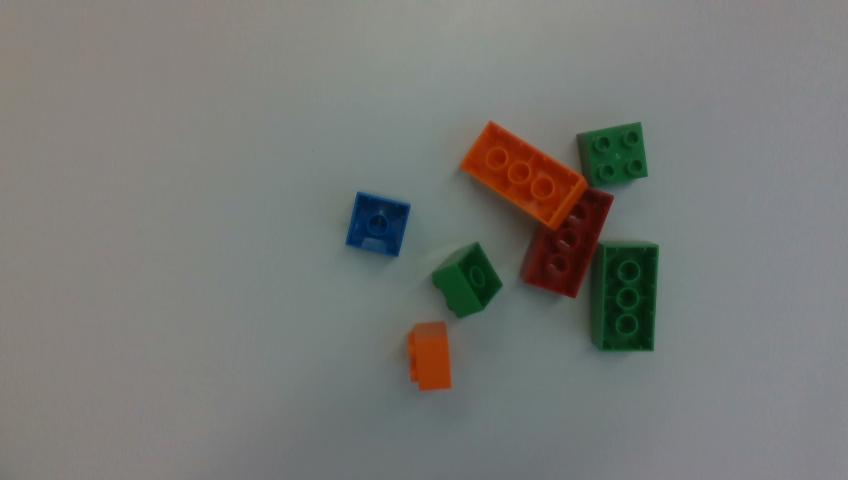2x2_blue: (346, 192, 409, 256)
2x2_green: (432, 242, 501, 317), (578, 122, 647, 186)
2x2_orange: (408, 324, 450, 390)
4x2_green: (591, 242, 658, 350)
4x2_orange: (461, 122, 586, 229)
4x2_red: (520, 188, 613, 297)
